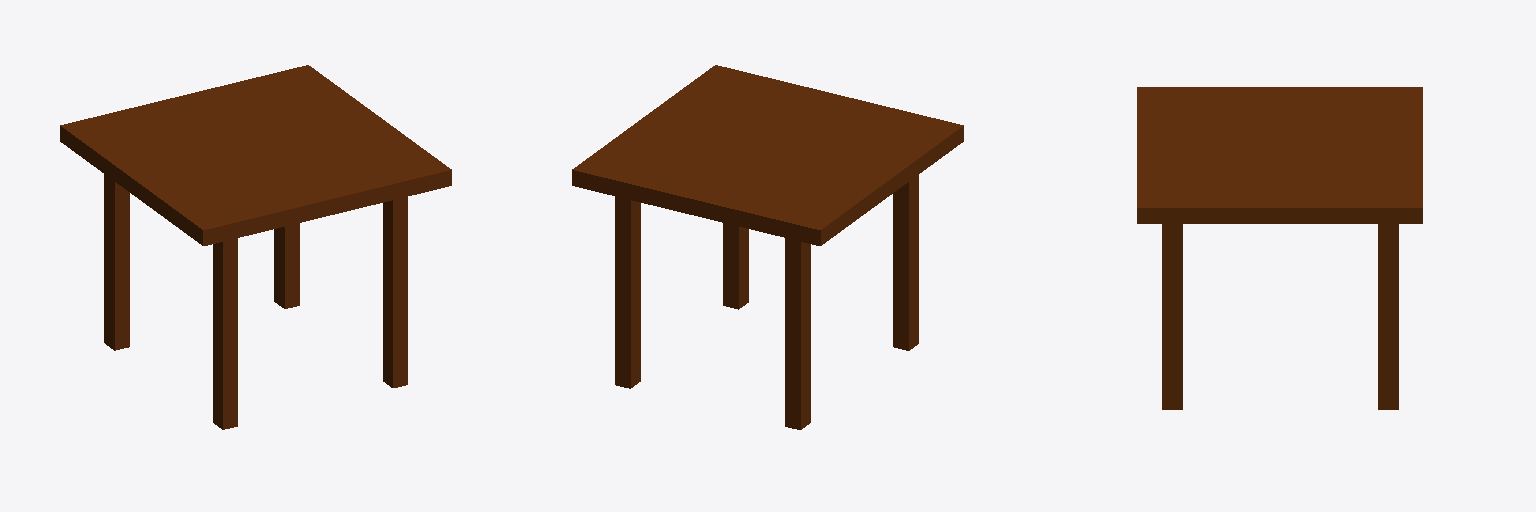
File: table1.obj
The picture shows the model from 3 angles: view 1: azimuth 30°, elevation 25°; view 2: azimuth 150°, elevation 25°; view 3: azimuth 270°, elevation 25°; orthographic projection.
Parts seen in each view (by area): view 1: Object.1; view 2: Object.1; view 3: Object.1.
Part boxes in pixels (bbox=[...]): Object.1: bbox=[60, 65, 451, 429]; Object.1: bbox=[572, 65, 963, 429]; Object.1: bbox=[1137, 87, 1422, 409].
Size of the model in its own units: 1.2 by 1 by 1.2.